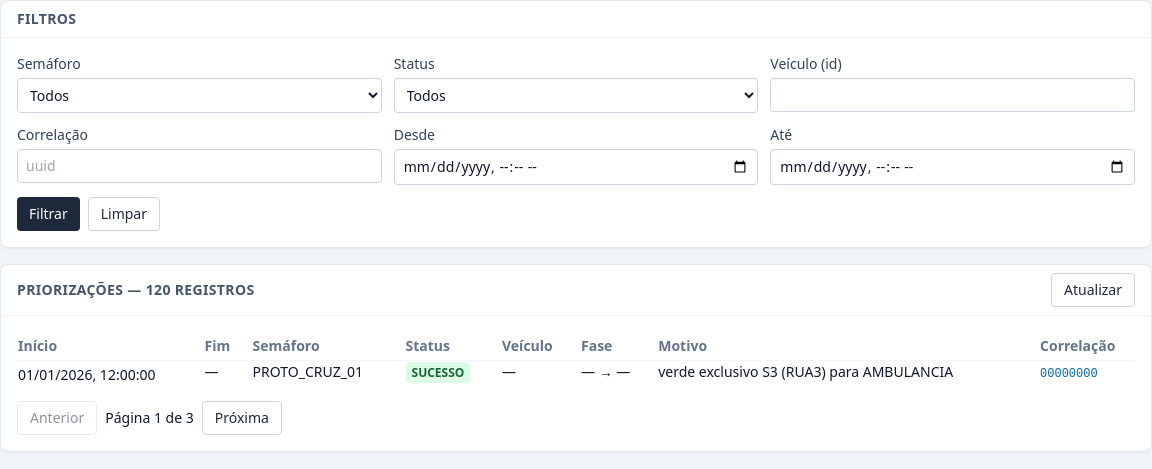
Test case: TelaLogs › lista, filtra pela correlação clicada e pagina
Expected: the text "verde exclusivo S3 (RUA3) para AMBULANCIA" is shown, [657,360,1039,389]
Expected: the text "Página 1 de 3" is shown, [105,408,194,428]
Click the button "00000000" at (1069, 374), box [1040,366,1098,382]
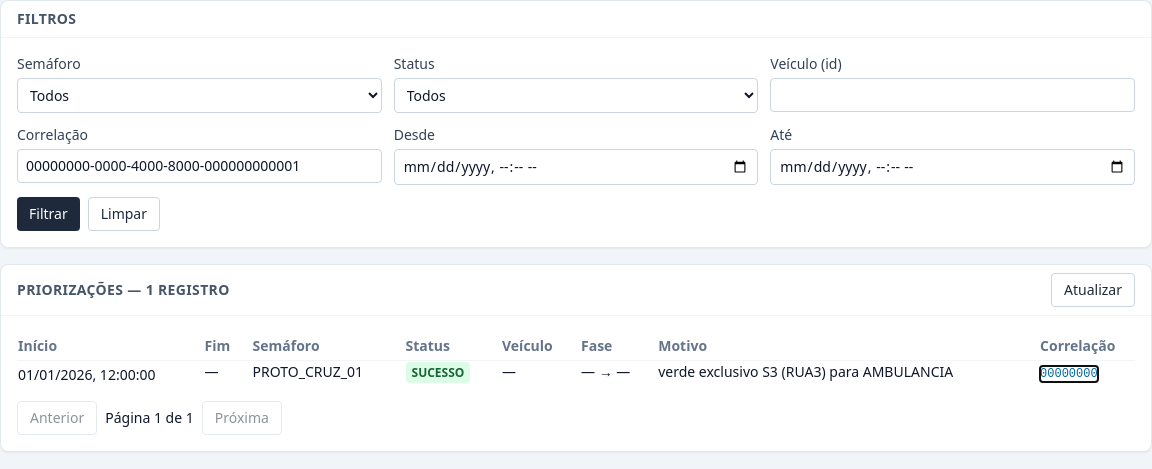
Now the text "Página 1 de 1" is shown, box [105,408,194,428]
